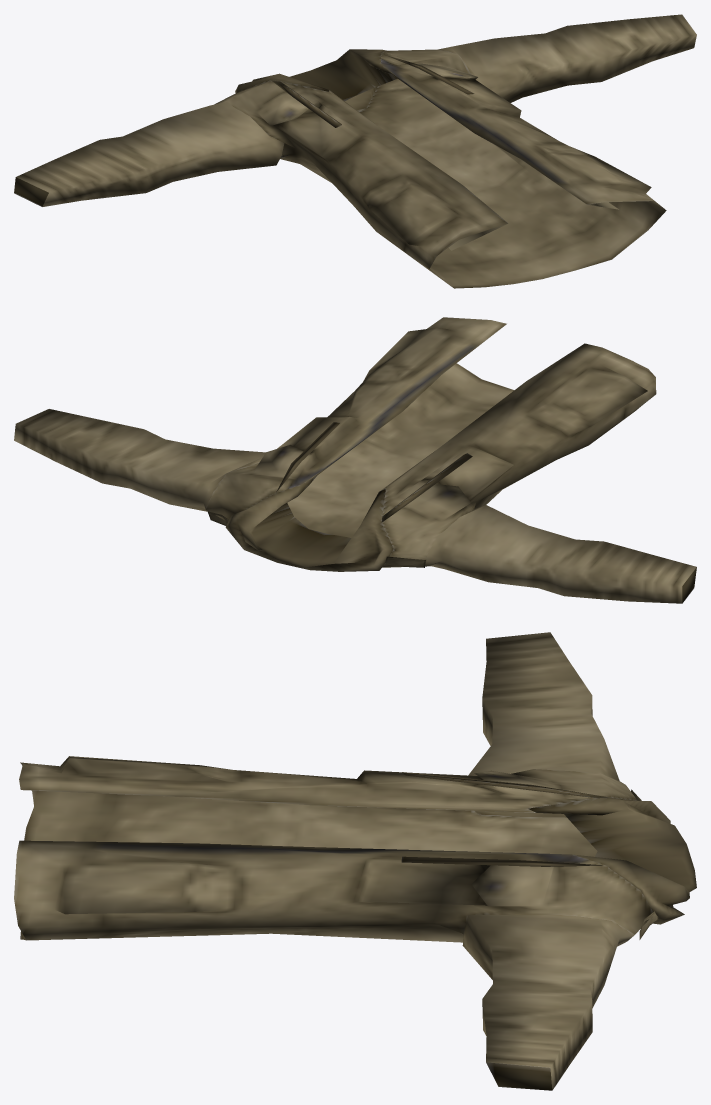
Rendered from Kurtk_1_Ground.fbx.
3 renders of one model, top to bottom at view 1: azimuth 30°, elevation 25°; view 2: azimuth 150°, elevation 25°; view 3: azimuth 270°, elevation 25°, orthographic. The views are drawn at different scales.
Visible parts, largest first — view 1: Body.026; view 2: Body.026; view 3: Body.026.
Part boxes in pixels (left/top/right/bottom): Body.026: left=14, top=14, right=696, bottom=288; Body.026: left=14, top=317, right=696, bottom=603; Body.026: left=14, top=632, right=696, bottom=1090.
Size of the model in its own units: 0.7585 by 0.0706 by 0.501.
